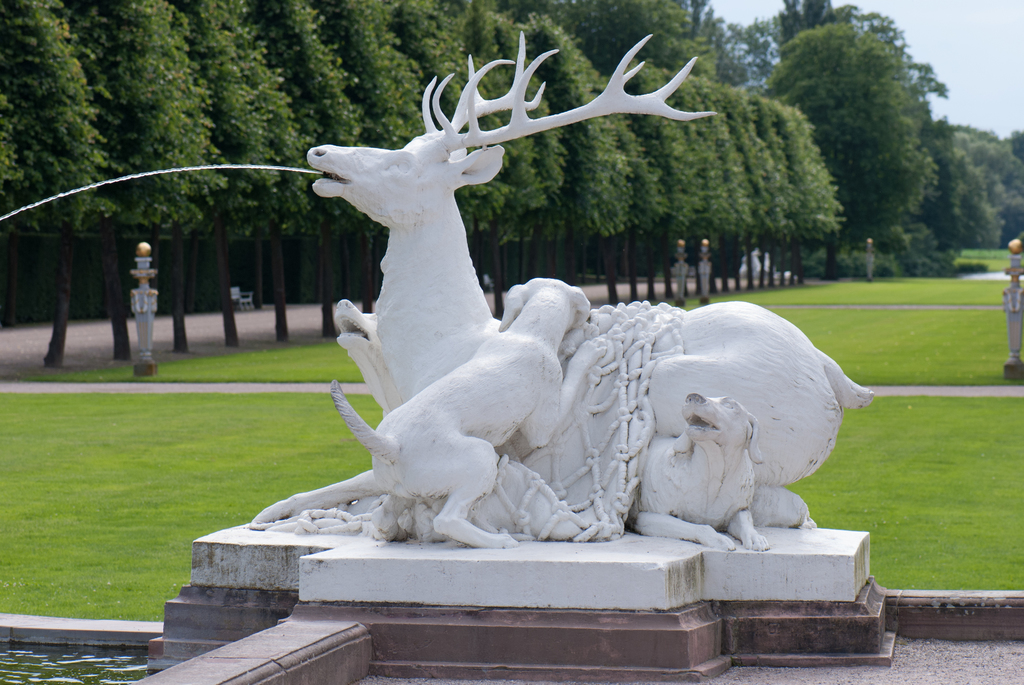Tree: (0, 0, 849, 371), (753, 17, 929, 278), (737, 0, 952, 103), (921, 122, 1005, 274), (983, 117, 1019, 240)
